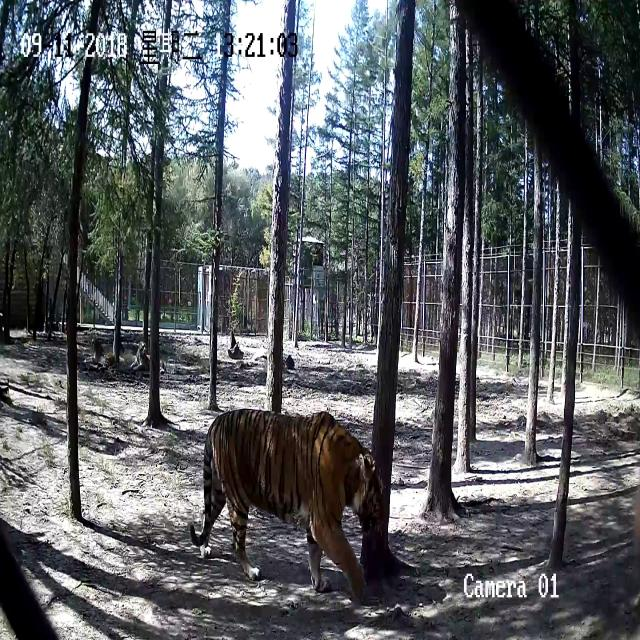Tiger: (189, 396, 398, 613)
